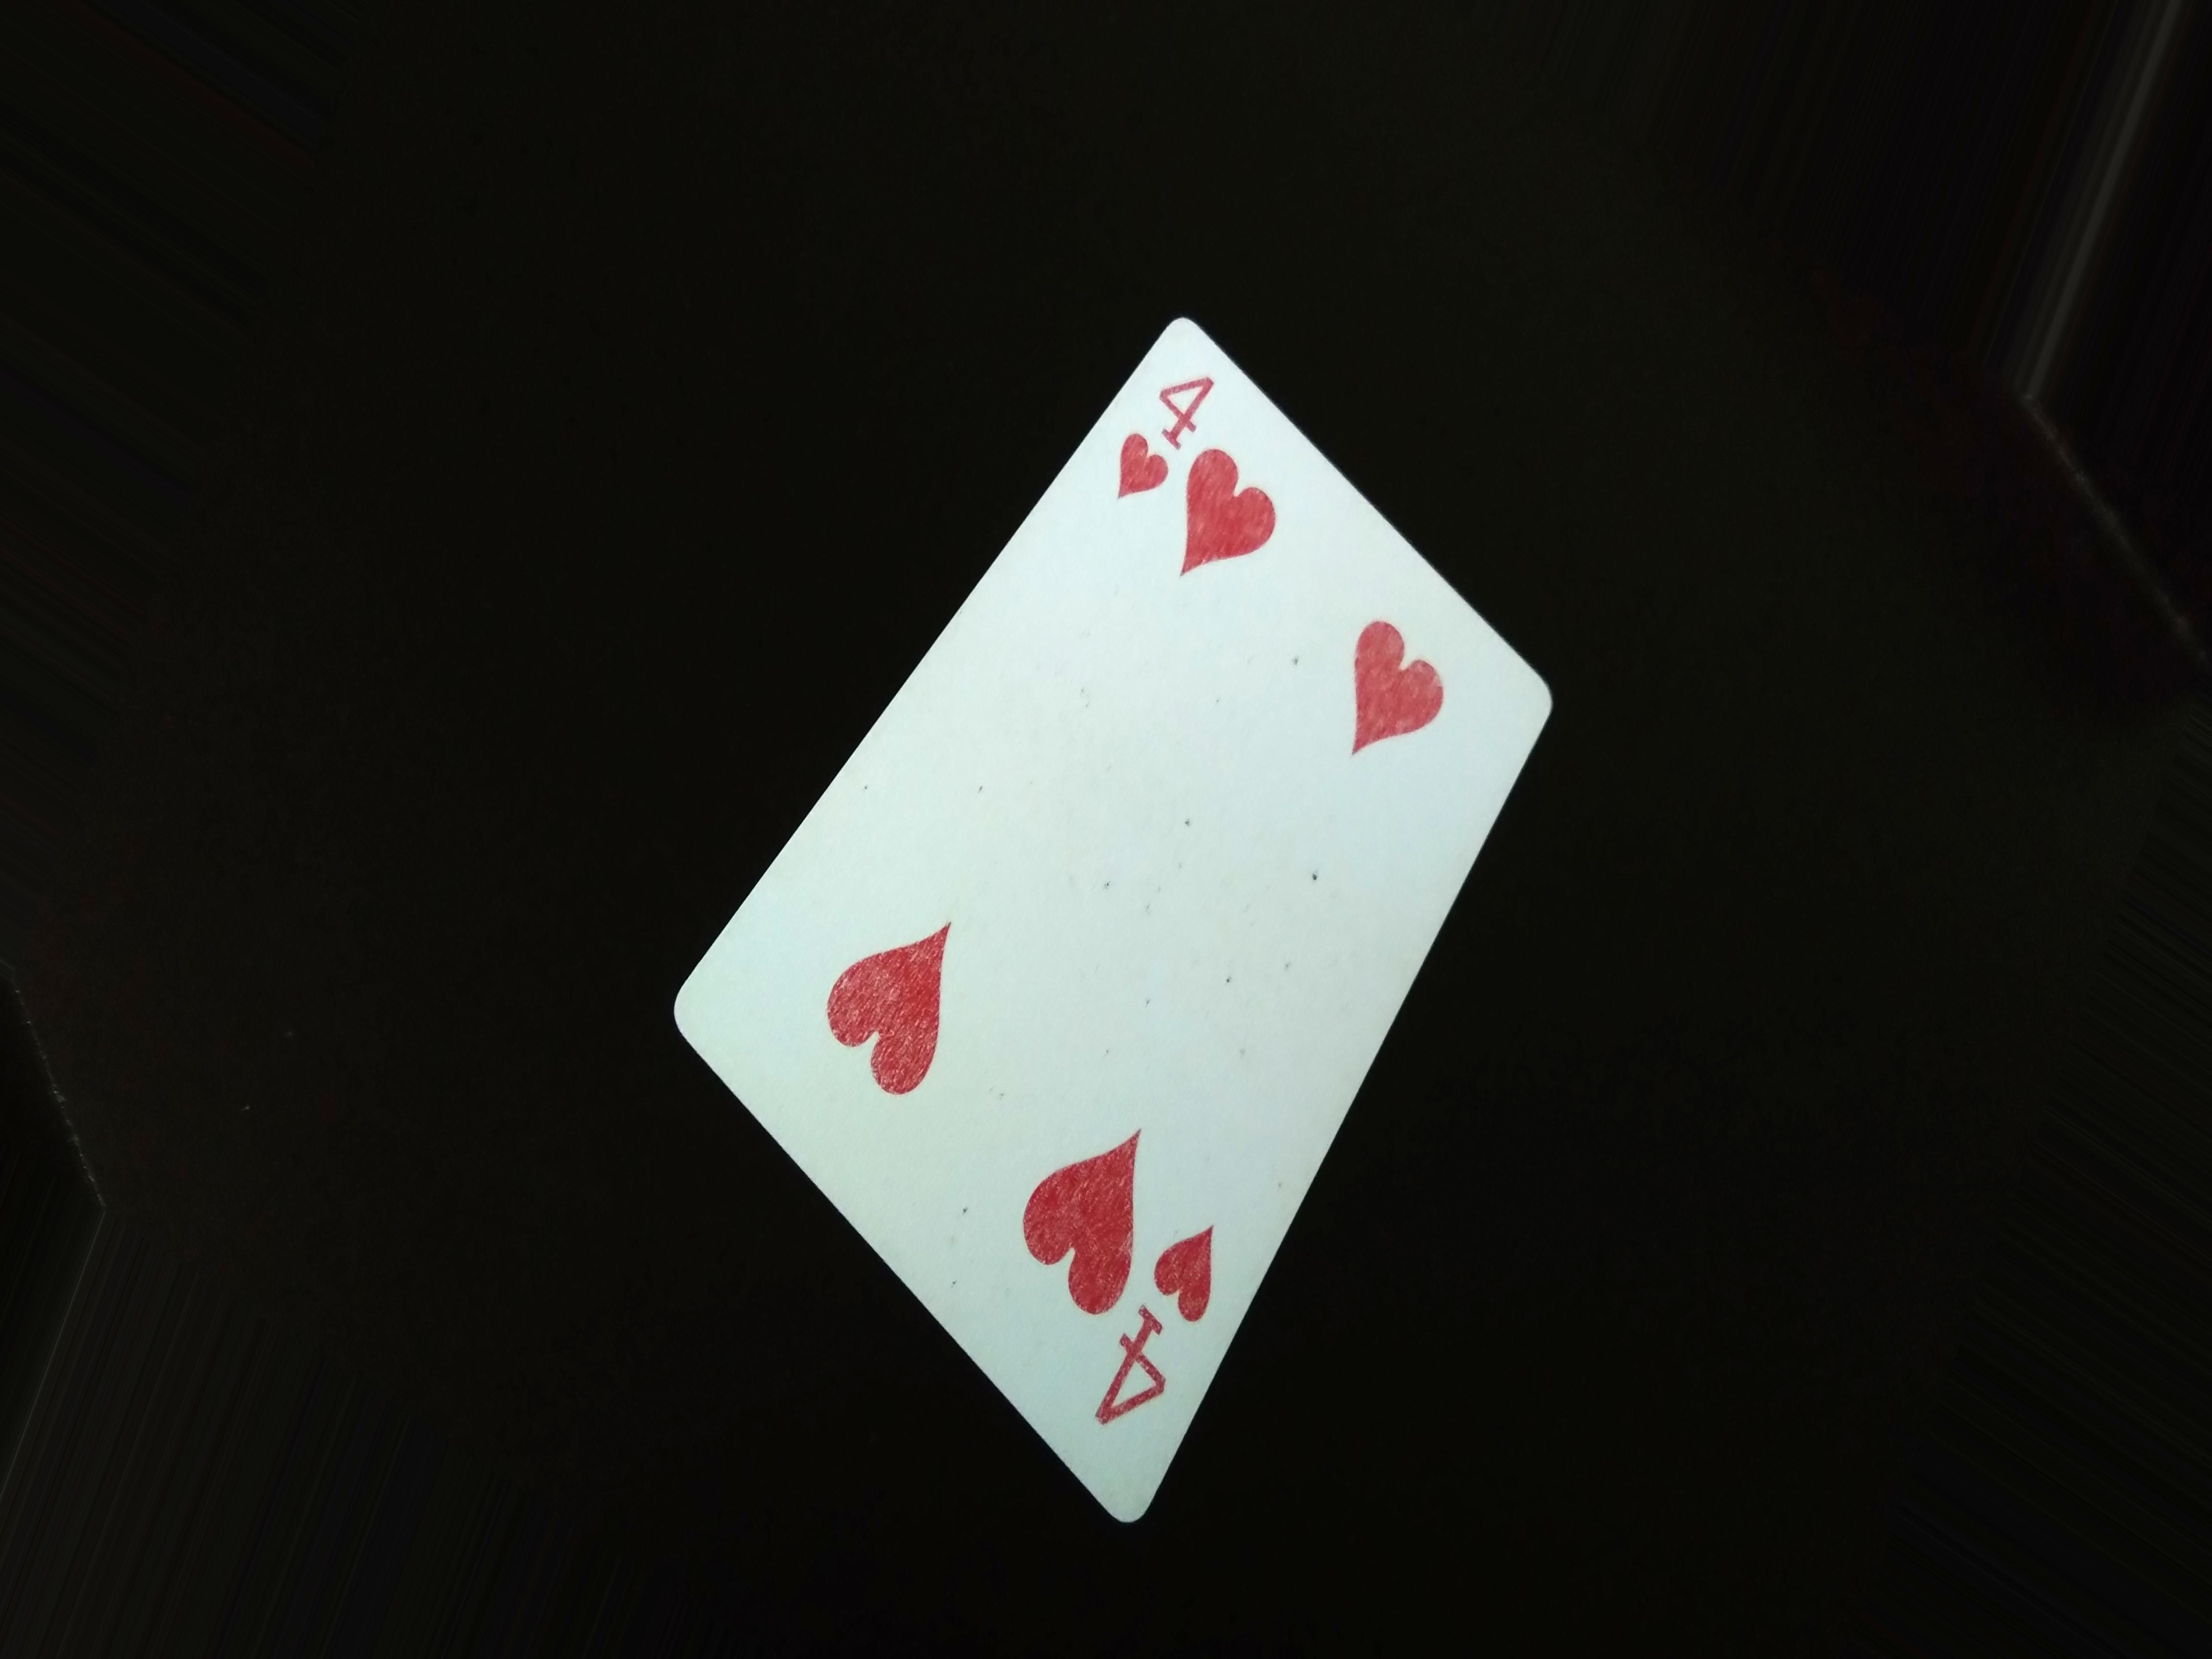4H: (1101, 345, 1230, 511)
